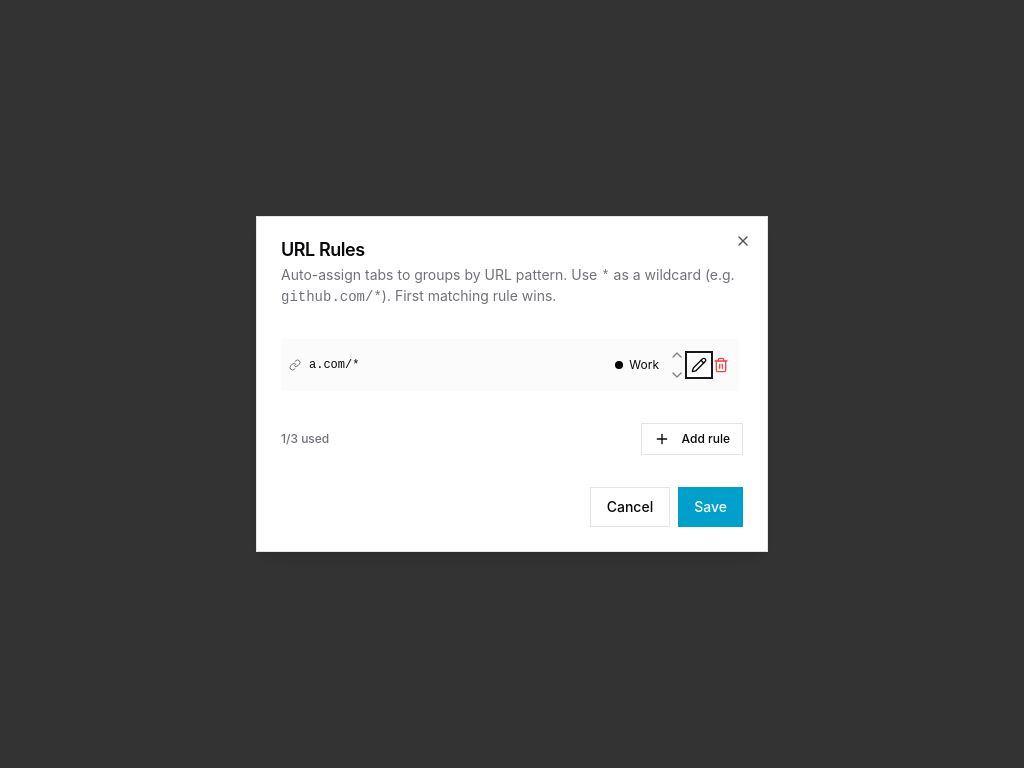
UrlRulesModal — editing rules › clicking the pencil opens the "Edit URL Rule" modal pre-filled with the current pattern and group
Click the button named "edit rule": (699, 365) [689,355,709,375]
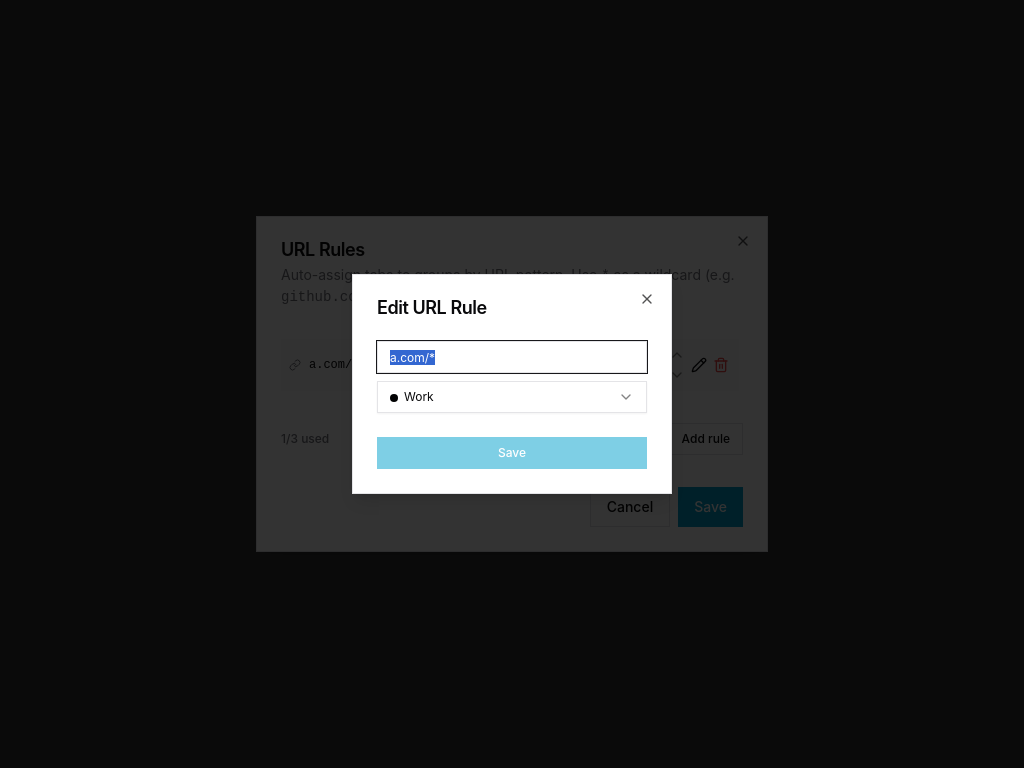
expect the heading "Edit URL Rule" is shown: met, box [377,297,487,318]
expect the field with placeholder "Pattern, e.g. github.com/*" holds "a.com/*": met, box [377,341,647,373]
expect the button "Save" is shown: met, box [377,437,647,469]
